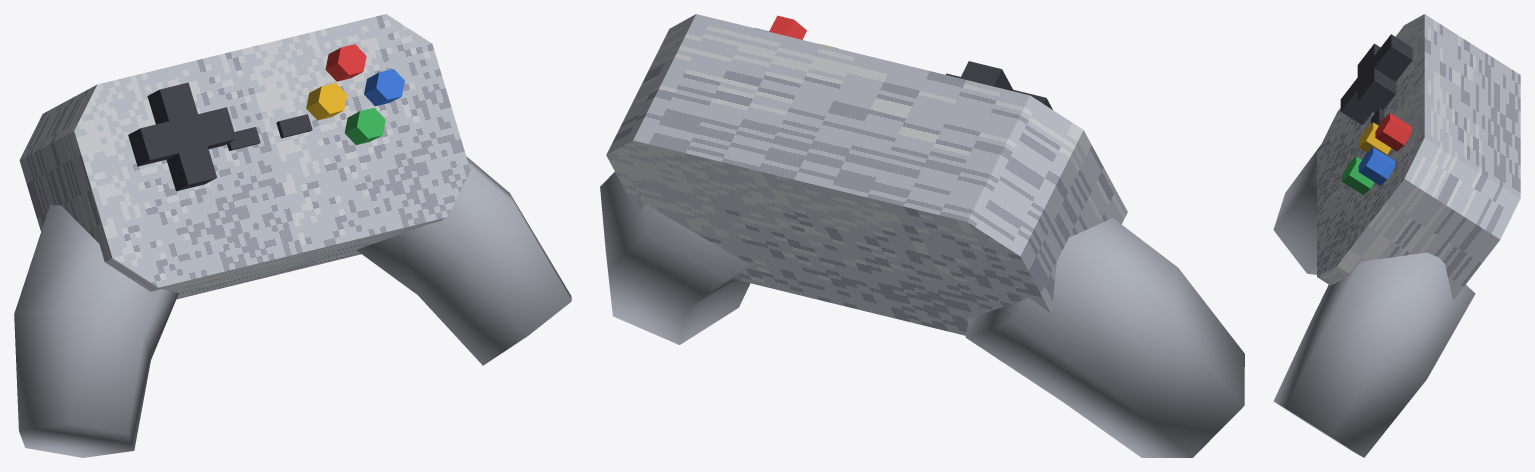
Rendered from life-gamepad.glb.
The picture shows the model from 3 angles, left to right: view 1: azimuth 30°, elevation 25°; view 2: azimuth 150°, elevation 25°; view 3: azimuth 270°, elevation 25°; orthographic projection. The views are drawn at different scales.
Visible parts, largest first — view 1: life.gamepad; view 2: life.gamepad; view 3: life.gamepad.
Boxes of the visible parts, bbox=[...] form: life.gamepad: bbox=[14, 14, 571, 457]; life.gamepad: bbox=[600, 14, 1244, 457]; life.gamepad: bbox=[1273, 14, 1520, 457].
Size of the model in its own units: 1.82 by 1.04 by 0.8045.
Materials: 7 (2 with a texture image).
